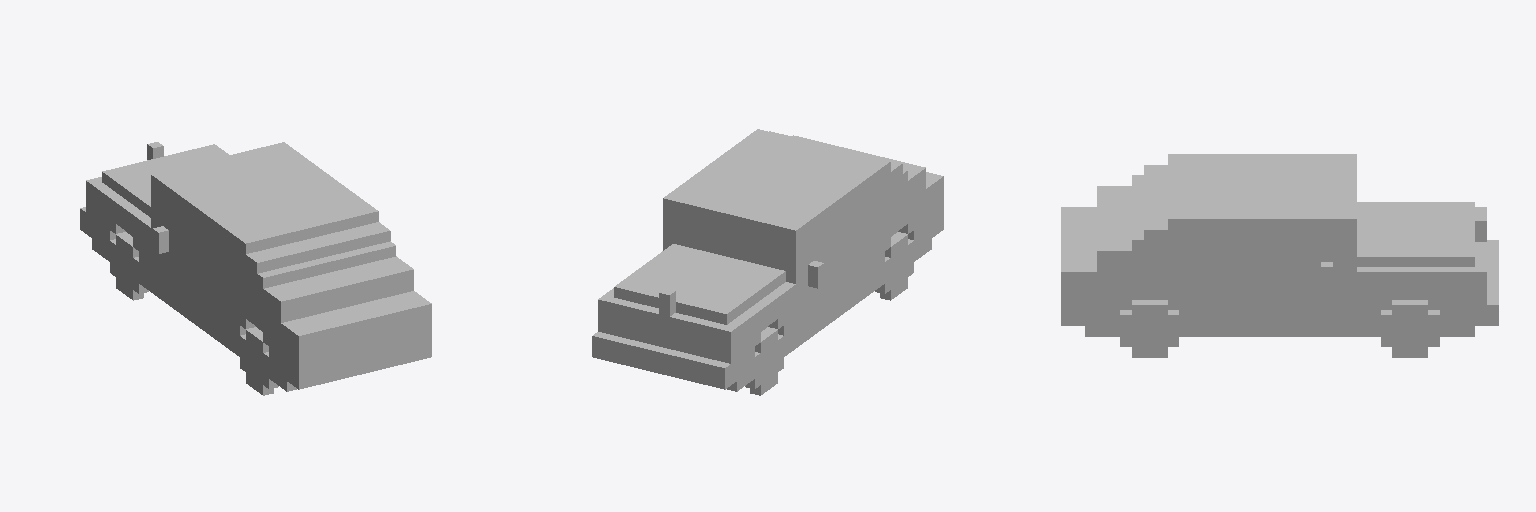
The model's file is black car.obj.
The picture shows the model from 3 angles: view 1: azimuth 30°, elevation 25°; view 2: azimuth 150°, elevation 25°; view 3: azimuth 270°, elevation 25°; orthographic projection.
Parts seen in each view (by area): view 1: object 1; view 2: object 1; view 3: object 1.
Boxes of the visible parts, x1,y1,x2,y2 form: object 1: [80, 142, 431, 395]; object 1: [592, 129, 943, 395]; object 1: [1061, 154, 1498, 357].
Bounding box in the file's own units: 1.5 × 1.3 × 3.7.